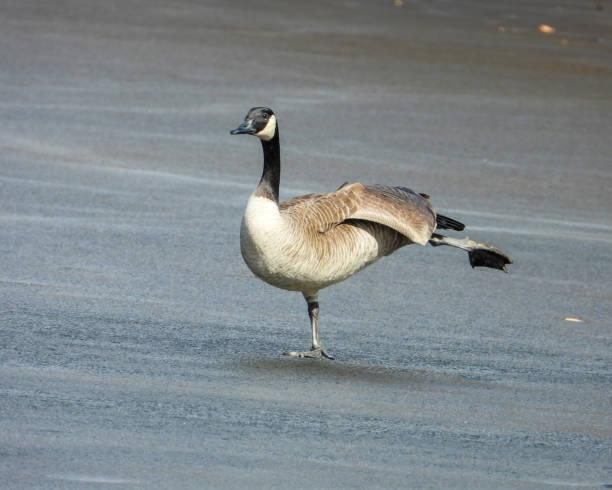Canadian-Goose: (224, 103, 517, 357)
